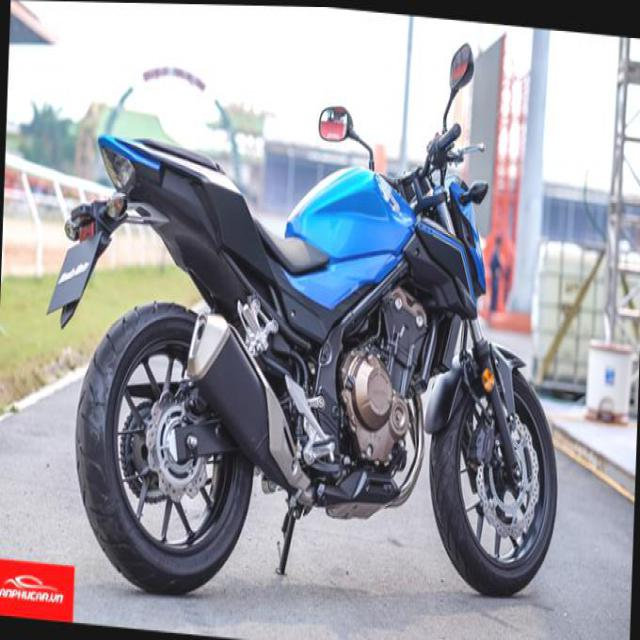CB500F: (36, 2, 574, 634)
